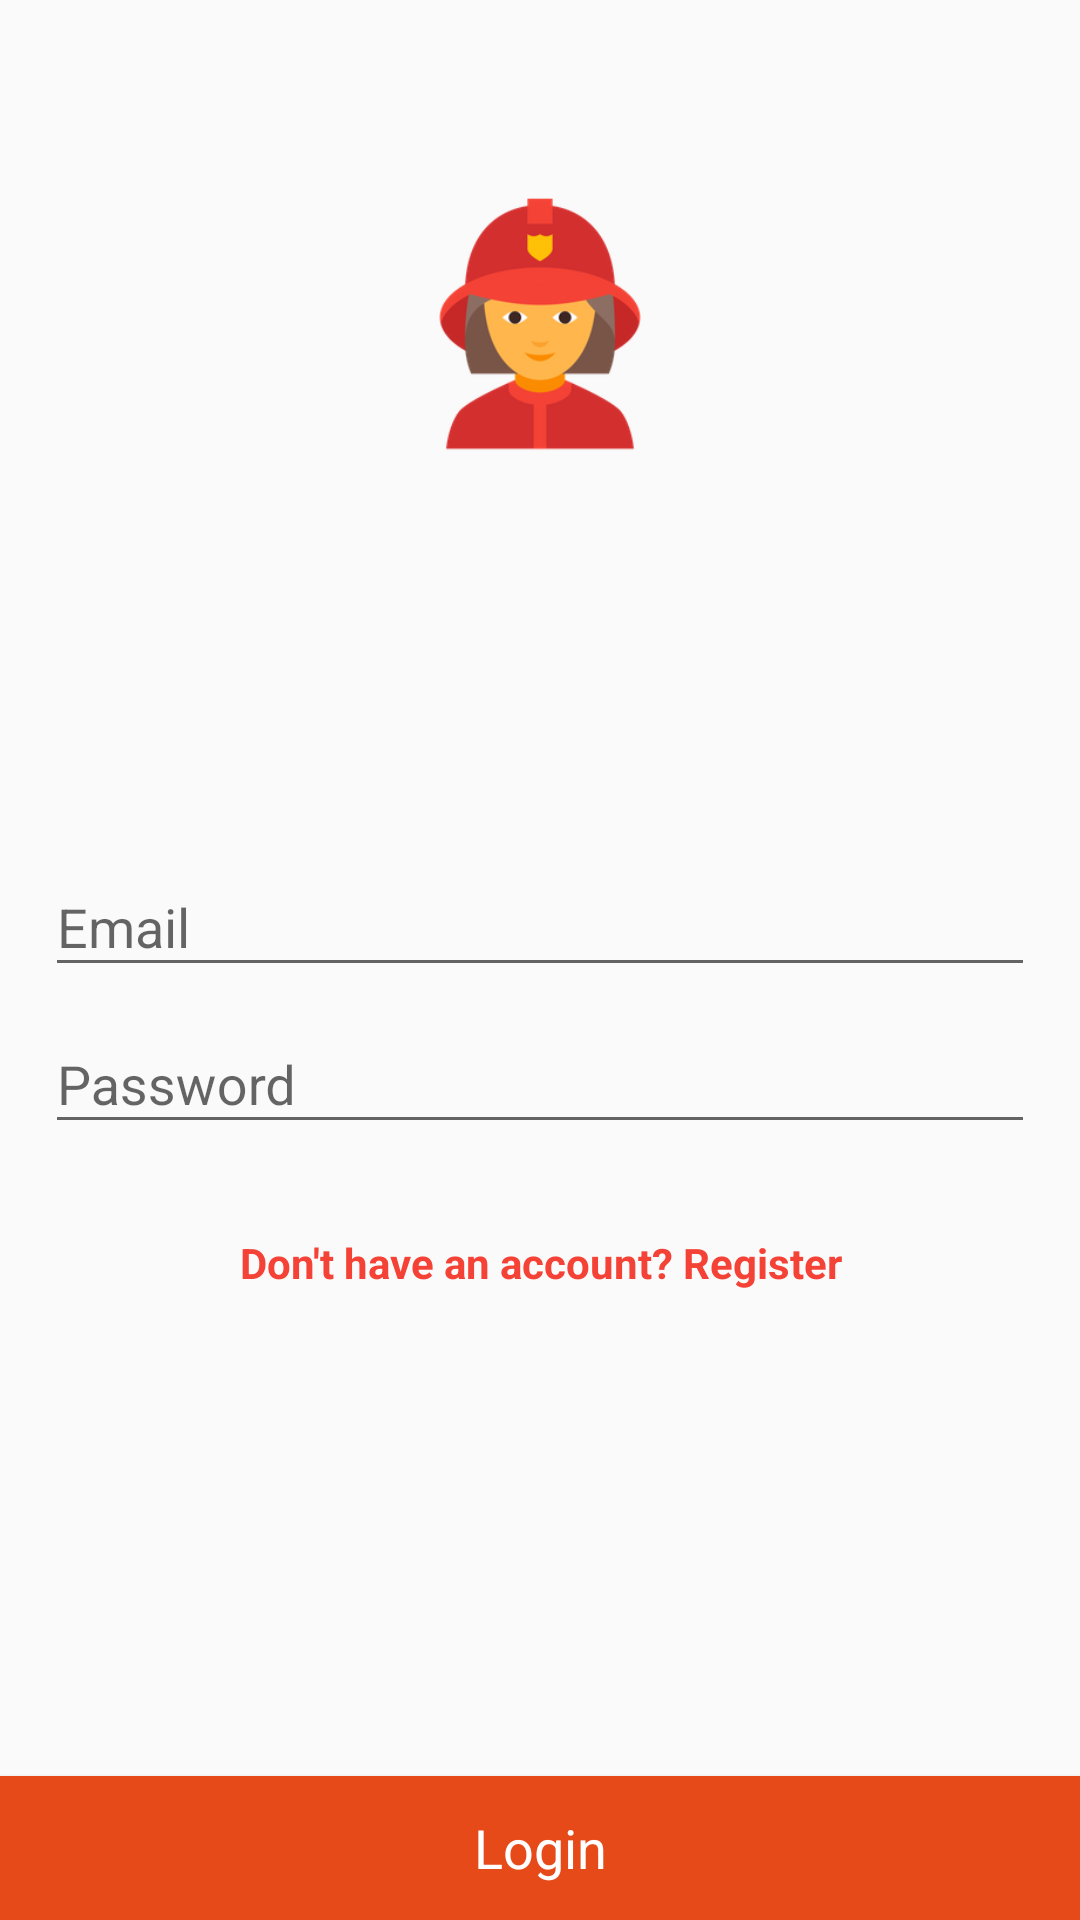

Where icons sit on this 1080px×1920px app screen, as (x1, y1, x2, y2):
fireman: (439, 198, 641, 450)
